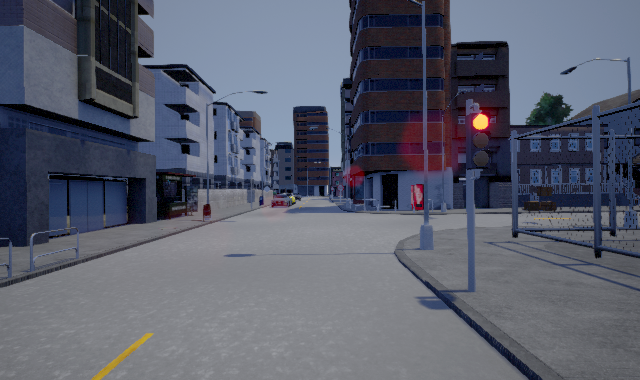traffic_light: (465, 103, 492, 180)
vehicle: (271, 193, 301, 208)
